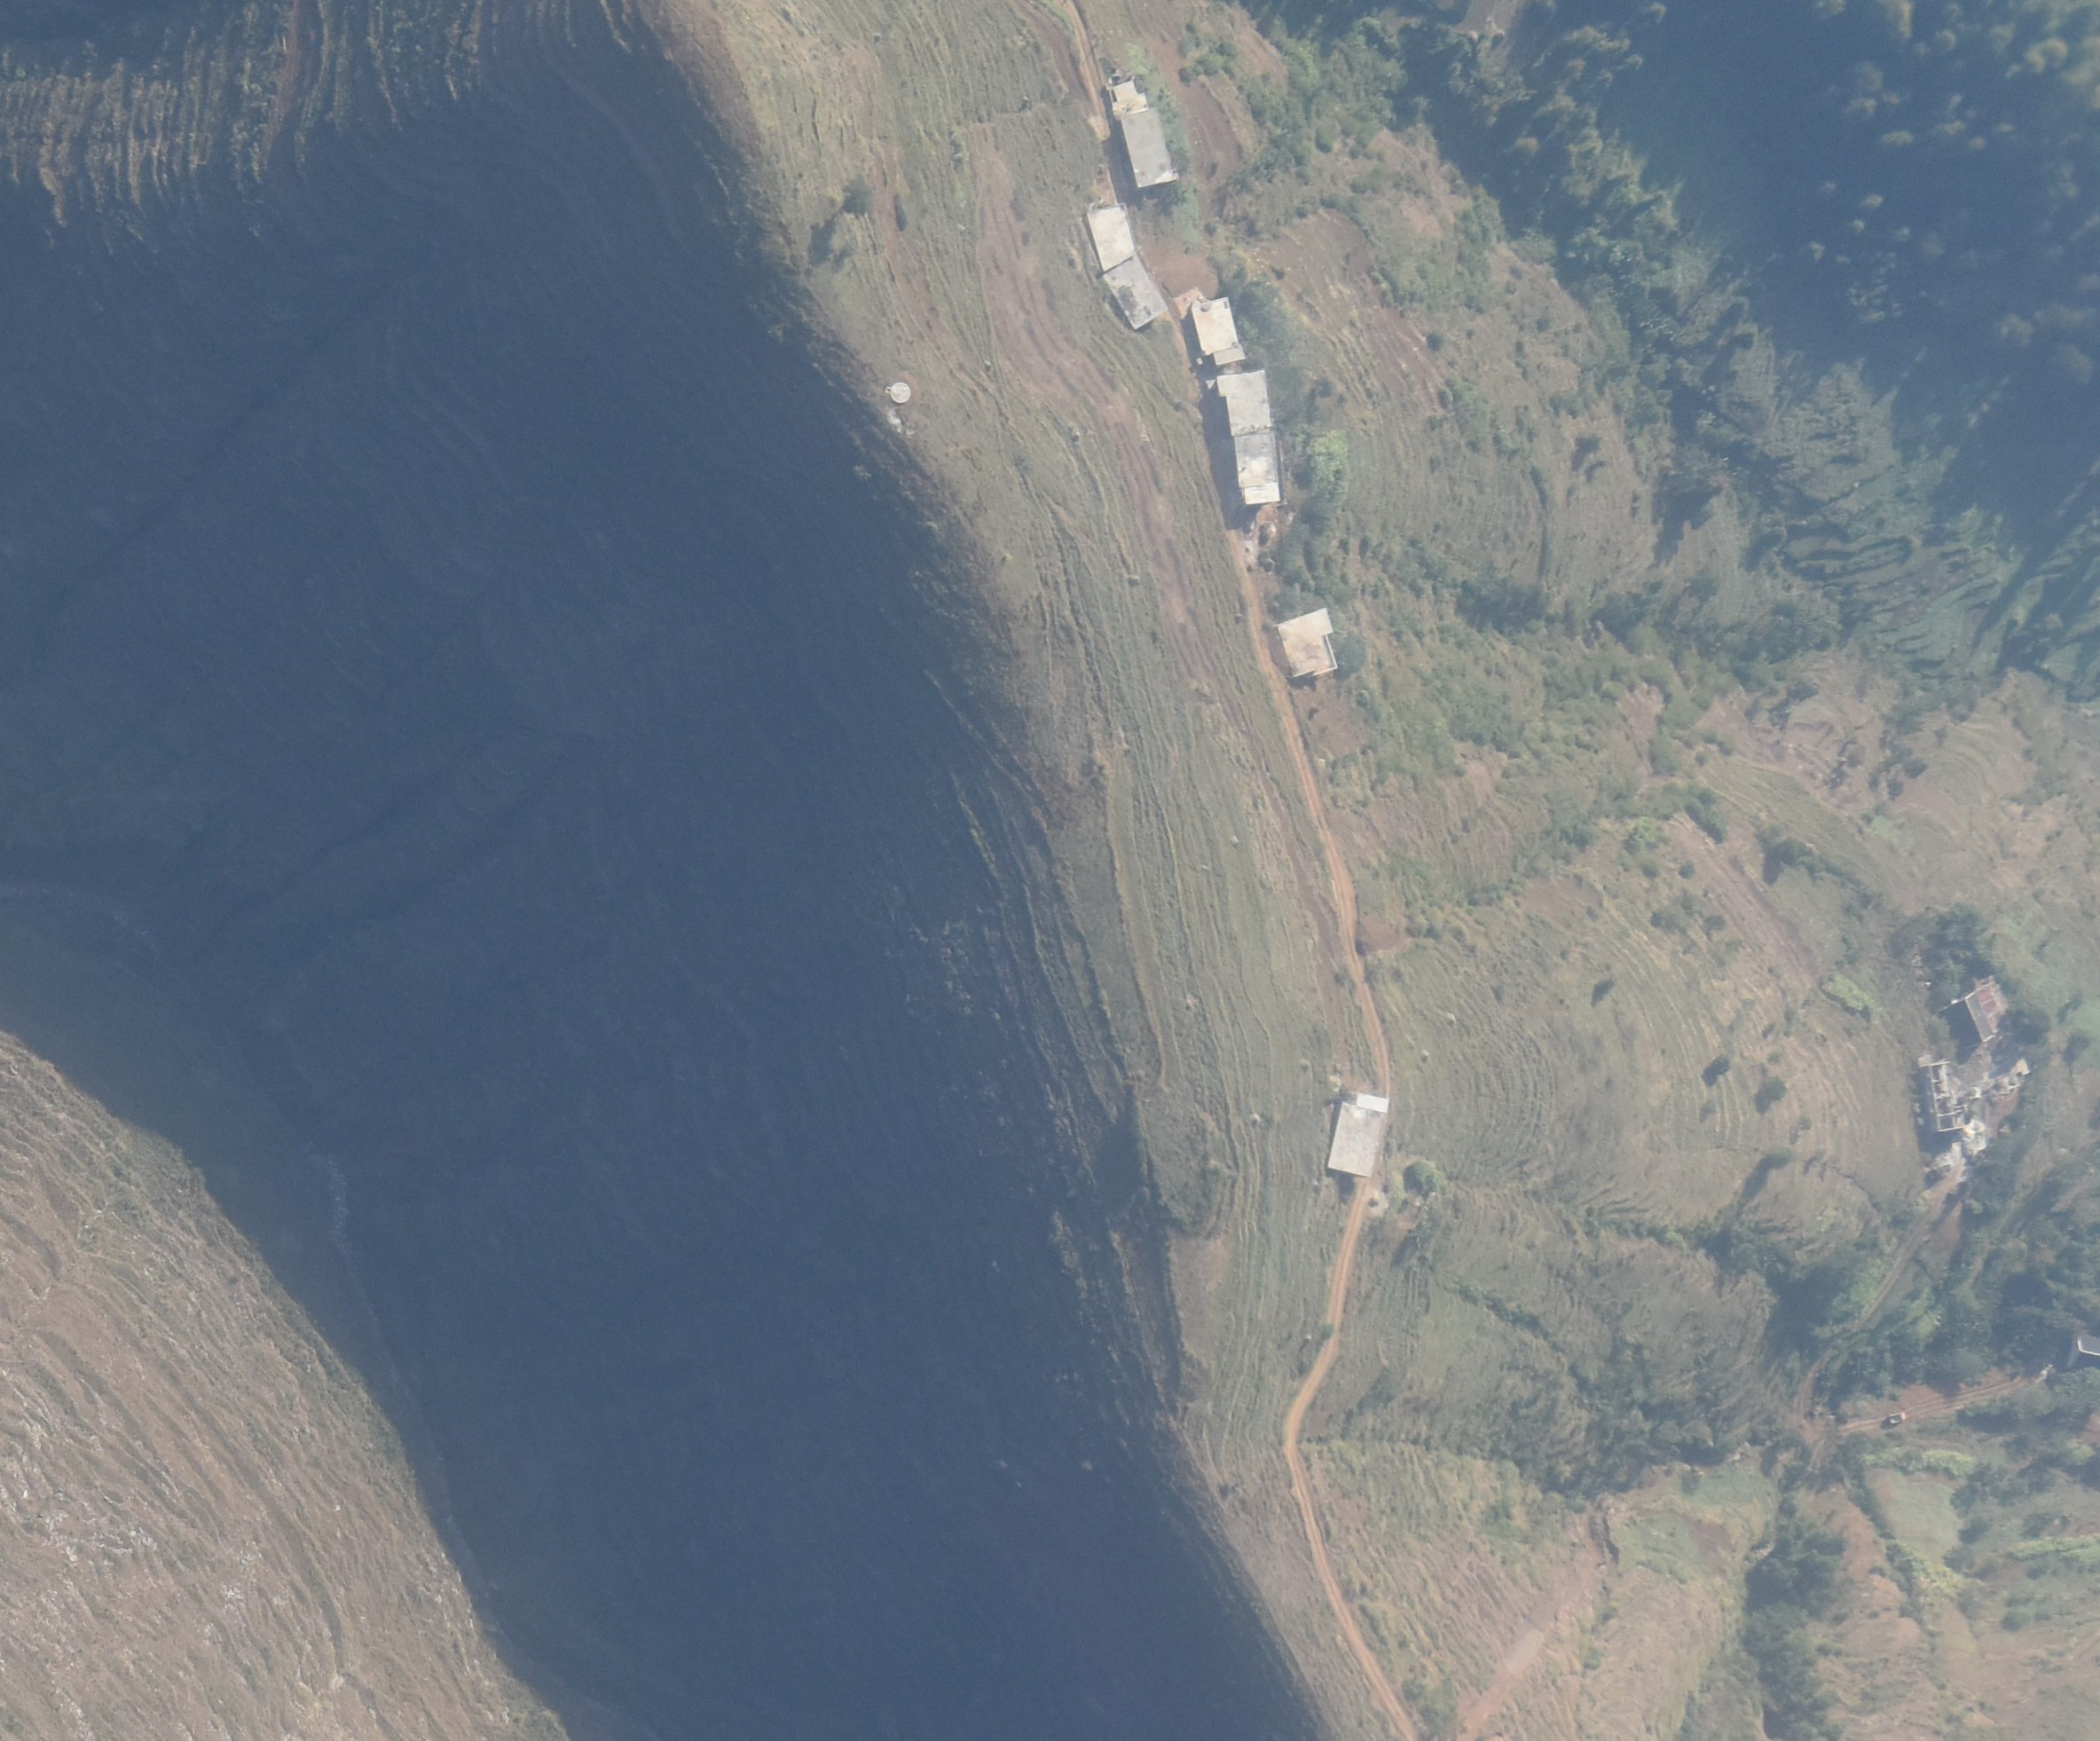building: (1088, 203, 1168, 330), (1217, 368, 1281, 506), (1107, 82, 1178, 190), (1327, 1093, 1393, 1178), (1274, 606, 1339, 678), (1921, 1060, 1976, 1133), (1192, 297, 1246, 366), (1945, 994, 1994, 1052)
vehicle: (1889, 1414, 1906, 1424)
well: (890, 382, 911, 404)
